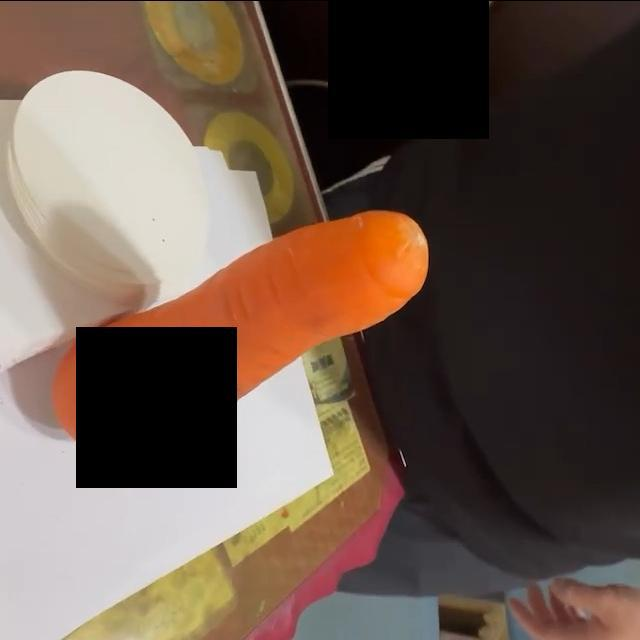carrot: (52, 212, 431, 459)
